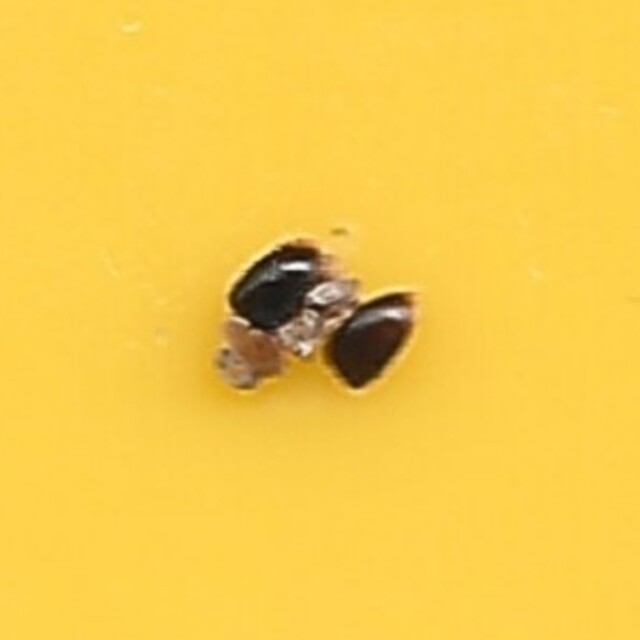Coleoptera: (213, 221, 427, 419)
